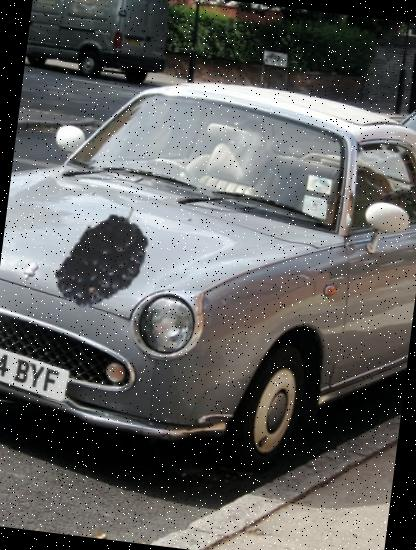Mulberry: (52, 202, 180, 330)
